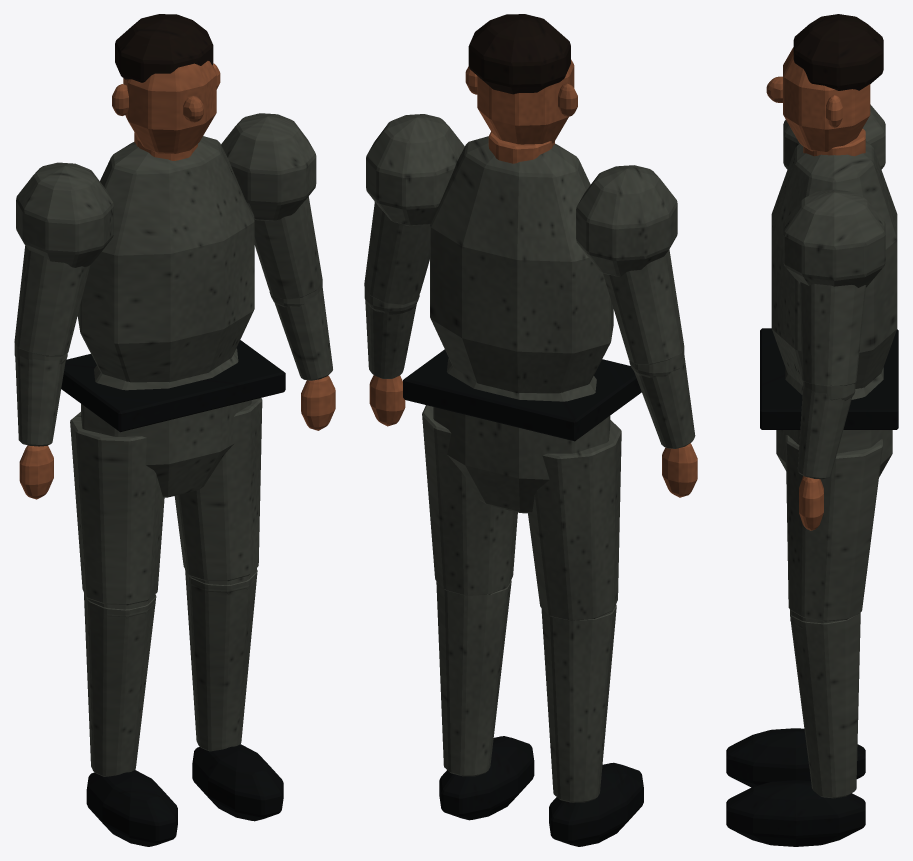
File: PROP-18651CC63CD8_lod1.glb
3 views of the same model, side by side, from view 1: azimuth 30°, elevation 25°; view 2: azimuth 150°, elevation 25°; view 3: azimuth 270°, elevation 25° (orthographic). The views are drawn at different scales.
Visible parts, largest first — view 1: torso.038, thigh.037, calf.037, shoulder.038, upper_arm.038, shoe.037, belt.037, pelvis.037, forearm.038, head.037, hair_cap.037, hand.037 (+2 smaller); view 2: torso.038, thigh.037, calf.037, shoulder.038, upper_arm.038, pelvis.037, shoe.037, belt.037, hair_cap.037, forearm.038, head.037, hand.037 (+3 smaller); view 3: torso.038, thigh.037, shoe.037, calf.037, shoulder.038, upper_arm.038, belt.037, hair_cap.037, head.037, forearm.038, pelvis.037, hand.037 (+4 smaller).
Part boxes in pixels (x1,y1,x2,y2): torso.038: (77, 136, 254, 382); thigh.037: (70, 398, 262, 605); calf.037: (84, 569, 257, 776); shoulder.038: (16, 113, 316, 267); upper_arm.038: (14, 196, 322, 356); shoe.037: (86, 744, 283, 846); belt.037: (61, 340, 285, 432); pelvis.037: (81, 348, 251, 497); forearm.038: (15, 288, 332, 446); head.037: (123, 61, 216, 153); hair_cap.037: (115, 14, 213, 82); hand.037: (19, 375, 335, 499); torso.038: (430, 136, 613, 393); thigh.037: (422, 405, 621, 620); calf.037: (436, 580, 616, 802); shoulder.038: (366, 114, 677, 276); upper_arm.038: (364, 202, 684, 364); pelvis.037: (433, 358, 610, 513); shoe.037: (439, 736, 643, 846); belt.037: (403, 349, 641, 441); hair_cap.037: (468, 14, 570, 94); forearm.038: (365, 301, 695, 448); head.037: (477, 59, 574, 144); hand.037: (369, 375, 697, 497); torso.038: (771, 141, 897, 388); thigh.037: (785, 435, 882, 621); shoe.037: (726, 728, 865, 846); calf.037: (790, 610, 860, 798); shoulder.038: (783, 104, 885, 287); upper_arm.038: (800, 282, 866, 385); belt.037: (760, 328, 898, 429); hair_cap.037: (793, 14, 883, 90); head.037: (783, 47, 870, 152); forearm.038: (797, 386, 852, 479); pelvis.037: (776, 367, 892, 477); hand.037: (799, 476, 823, 530).
Size of the model in its own units: 0.7126 by 1.71 by 0.3357.
Materials: 4 (4 with a texture image).
